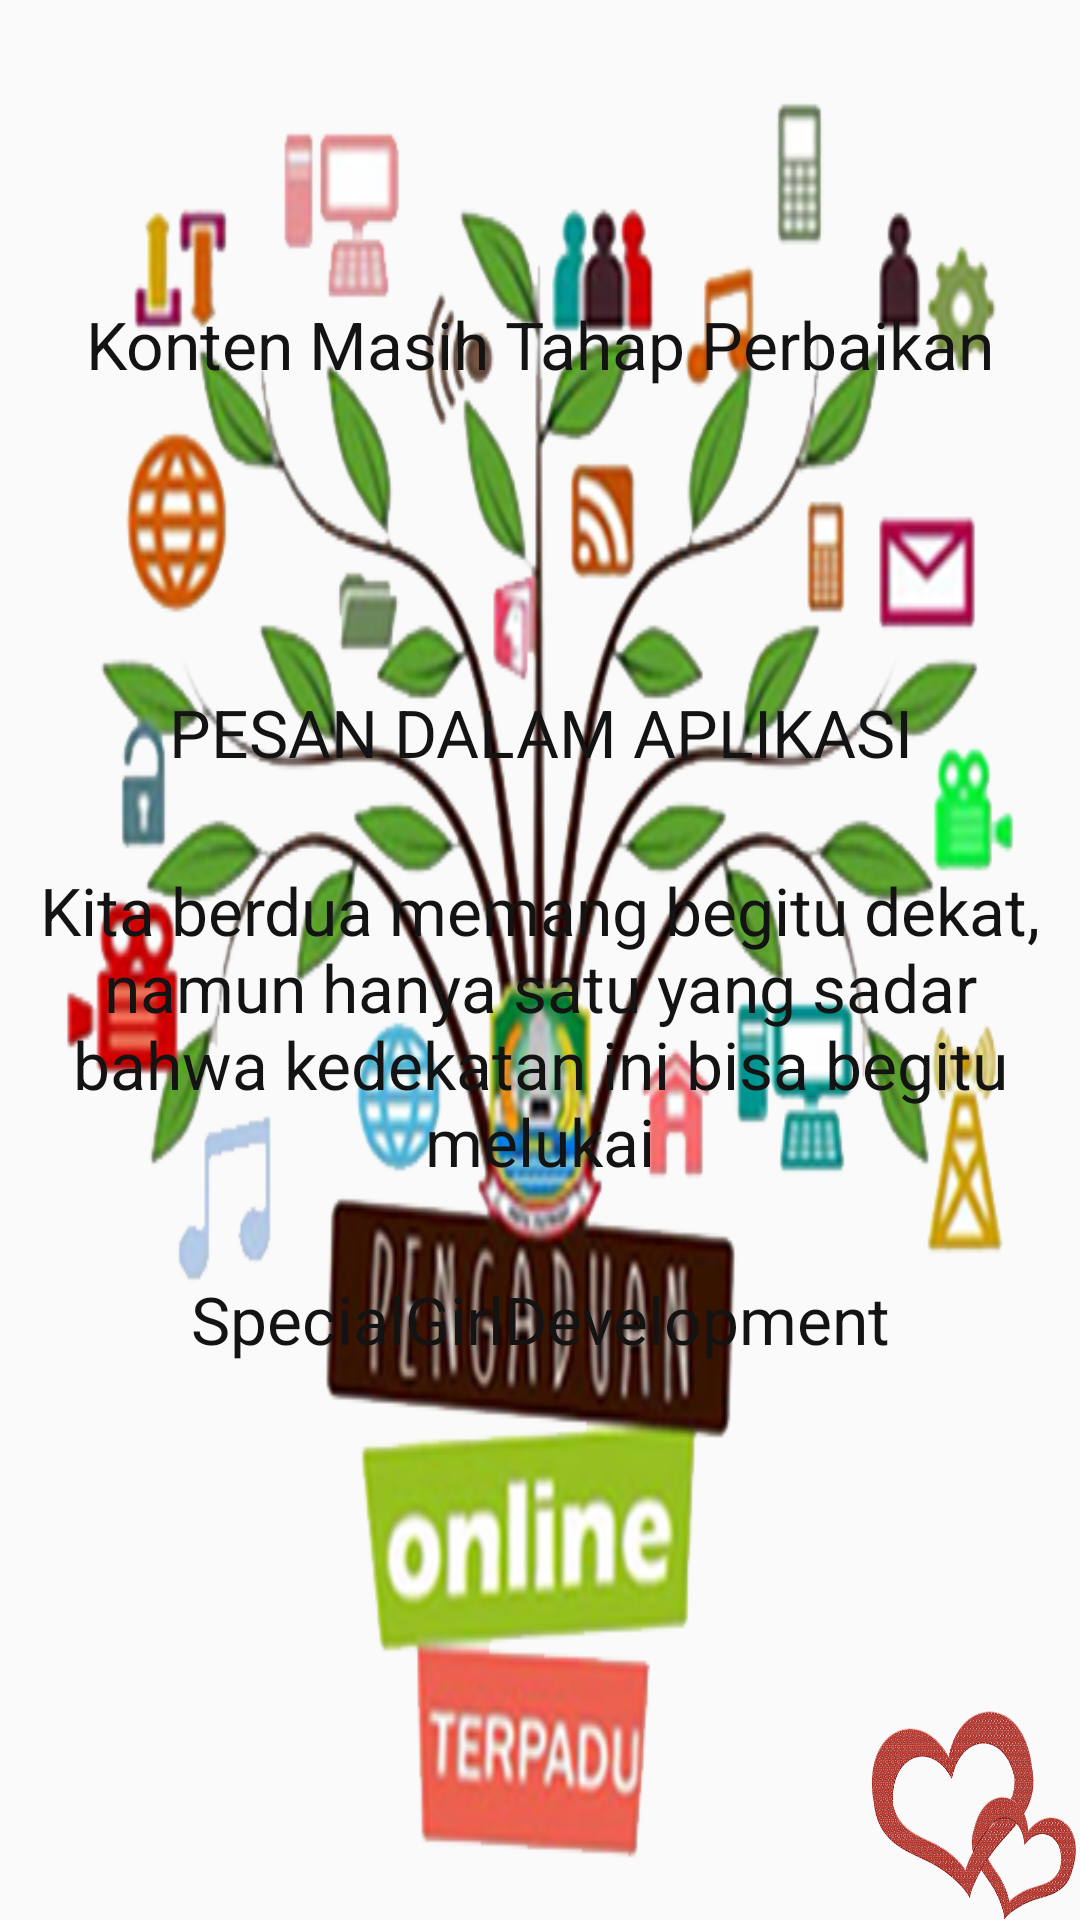

Locate icon controls on the screen. Image size 1080w x 1920h, boxes as (x1, y1, x2, y2).
heart: (872, 1711, 1076, 1919)
